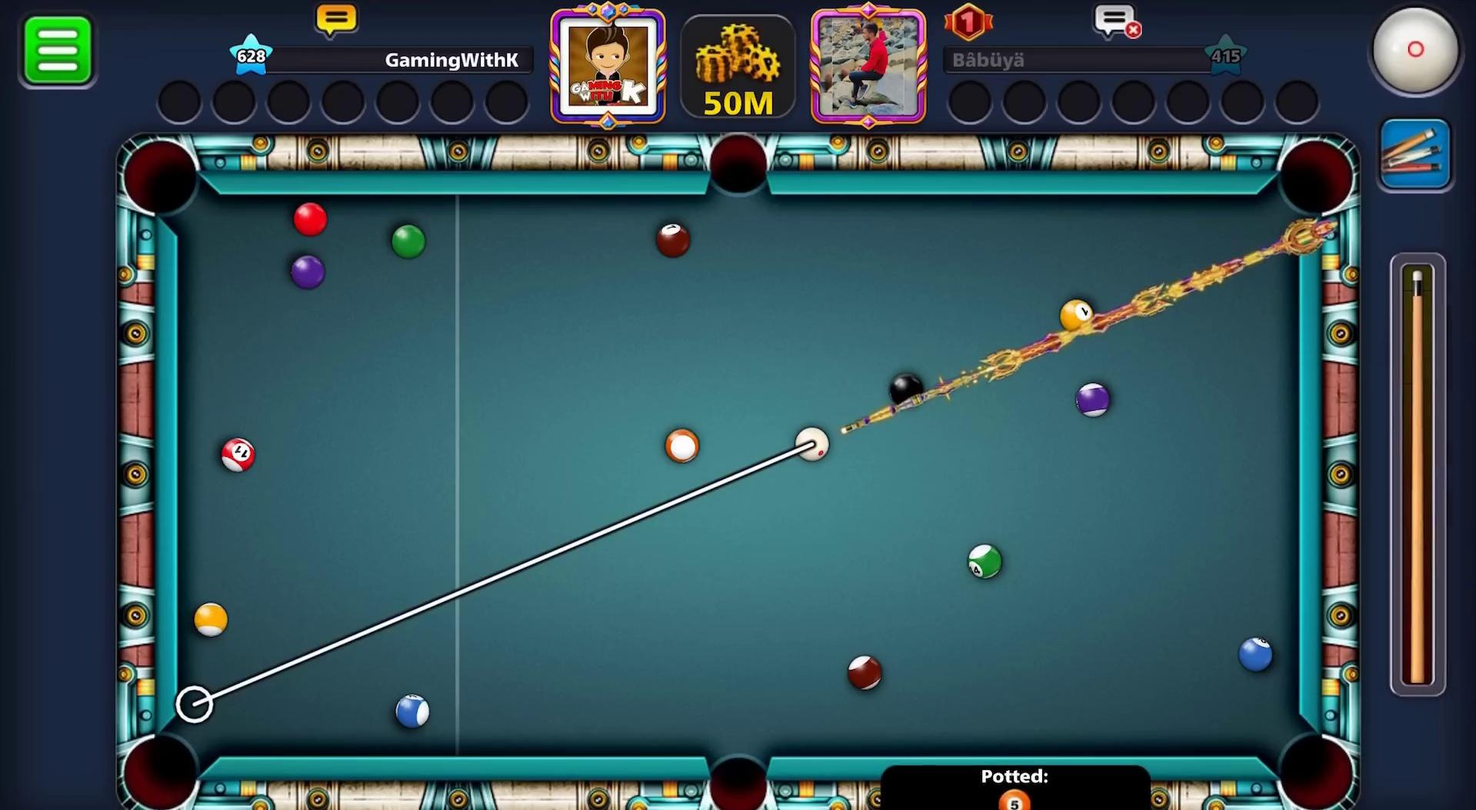Ball: (1065, 378, 1126, 427), (837, 647, 892, 701), (381, 693, 446, 736), (286, 243, 331, 298), (1236, 631, 1279, 680), (965, 535, 1002, 585), (1055, 293, 1099, 335), (216, 433, 260, 475), (661, 425, 705, 467), (288, 195, 333, 235), (189, 601, 232, 637), (653, 221, 694, 256)
Force: (1381, 245, 1465, 709)
Guideline: (185, 434, 815, 715)
Hole: (1273, 124, 1361, 232), (685, 124, 785, 207)
Play_Area: (177, 195, 1299, 757)
Spin: (1352, 0, 1476, 111), (387, 222, 432, 262)
White: (791, 419, 839, 471)
